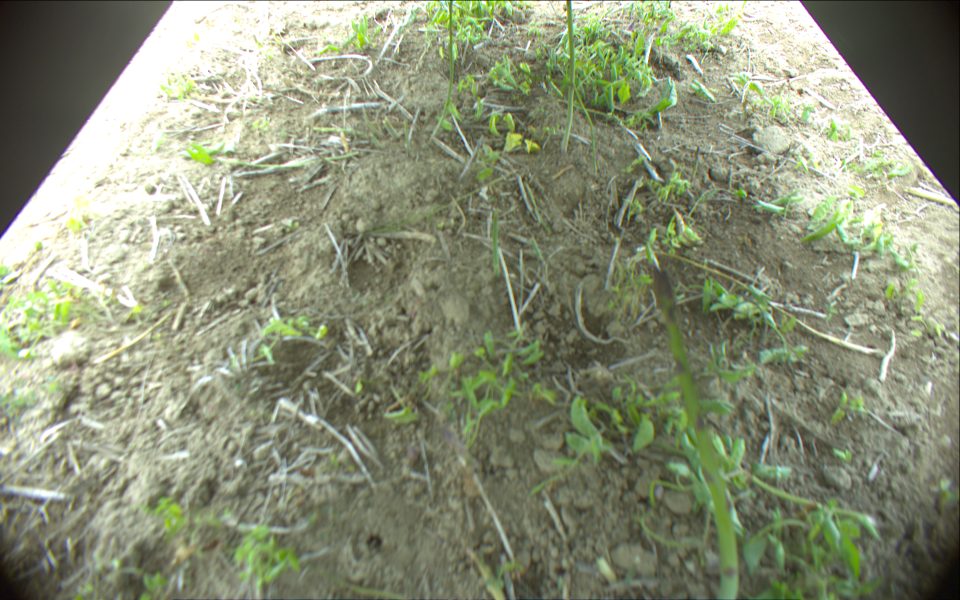aspa: (650, 266, 740, 600), (434, 1, 456, 136), (559, 1, 577, 151)
